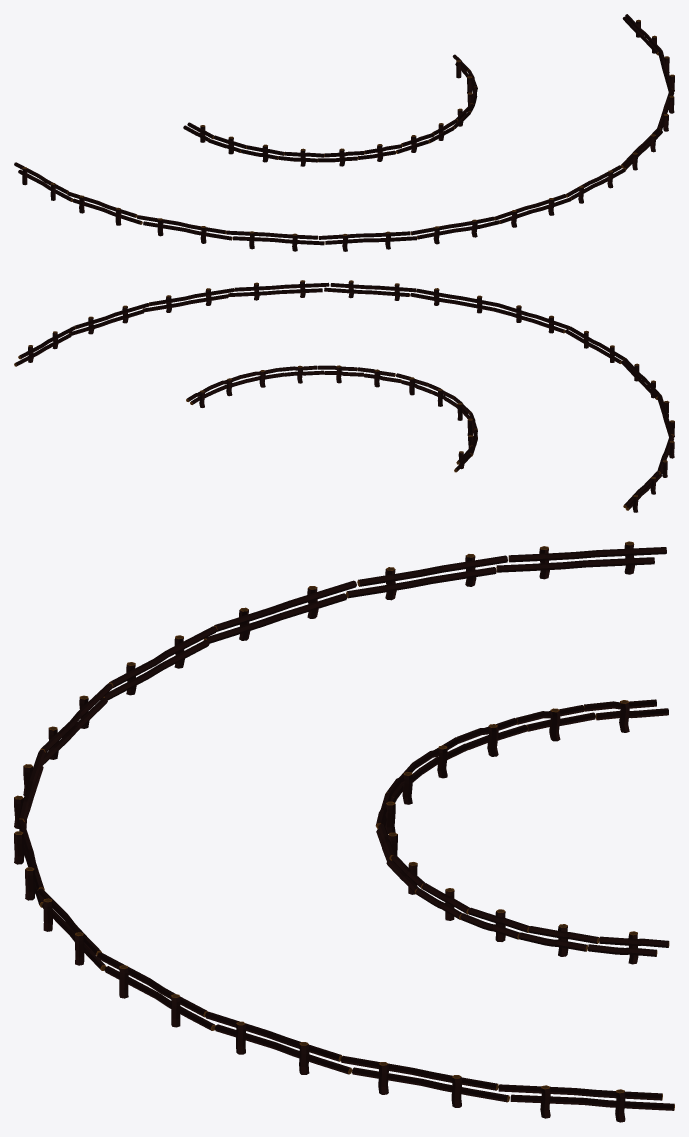
The model's file is rail180_1.fbx.
3 views of the same model, one above another, from view 1: azimuth 30°, elevation 25°; view 2: azimuth 150°, elevation 25°; view 3: azimuth 270°, elevation 25° (orthographic). The views are drawn at different scales.
Parts seen in each view (by area): view 1: rail180_1_1, rail180_2_1; view 2: rail180_1_1, rail180_2_1; view 3: rail180_1_1, rail180_2_1.
Part boxes in pixels (left/top/right/bottom): rail180_1_1: left=14, top=14, right=674, bottom=251; rail180_2_1: left=183, top=54, right=477, bottom=166; rail180_1_1: left=14, top=280, right=674, bottom=512; rail180_2_1: left=186, top=365, right=477, bottom=472; rail180_1_1: left=14, top=541, right=674, bottom=1122; rail180_2_1: left=375, top=699, right=669, bottom=964.
Bounding box in the file's own units: 2790 × 1412 × 68.87.
